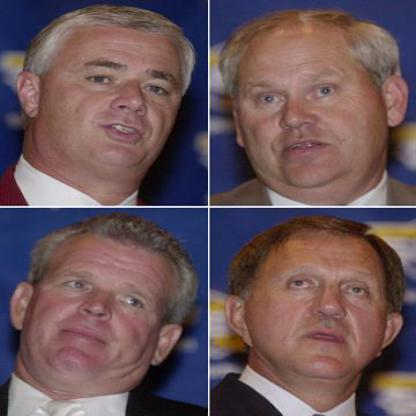face: (234, 13, 384, 193), (38, 9, 190, 175), (33, 218, 174, 386), (248, 223, 393, 385)
